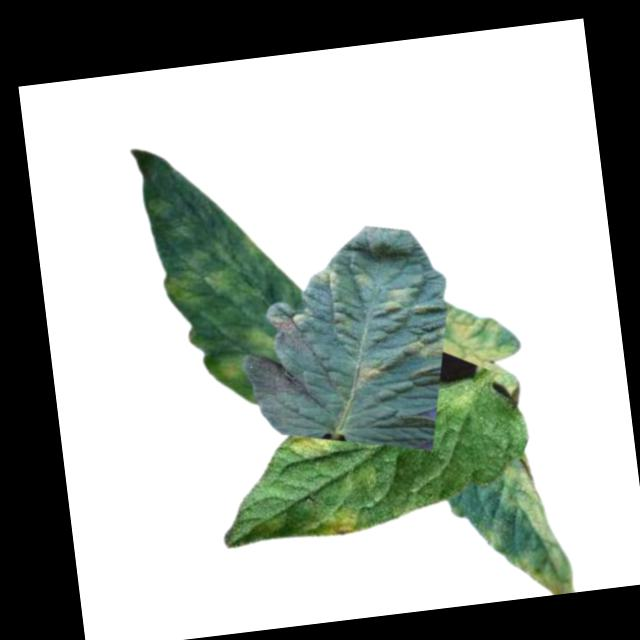Leaf_Mold: (471, 449, 583, 603), (436, 294, 525, 402), (158, 226, 268, 312), (287, 428, 336, 462), (313, 503, 363, 536), (307, 262, 347, 297), (246, 323, 280, 362), (407, 328, 447, 359), (381, 283, 418, 316), (352, 360, 389, 386), (218, 349, 246, 380), (353, 266, 377, 292)
